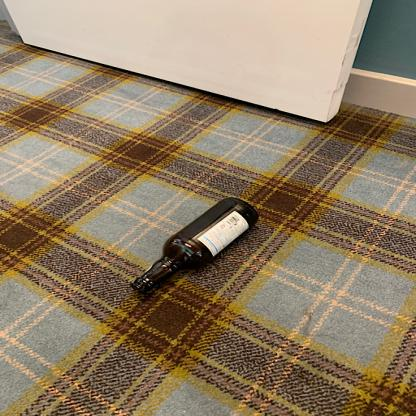trash: (125, 196, 259, 300)
